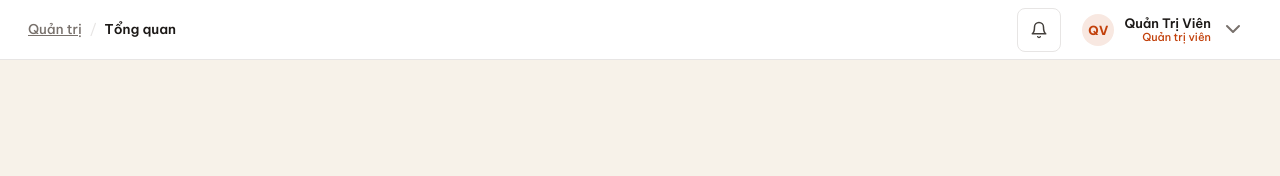
Test: Admin shell (GĐ2): header user menu dropdown › mở/đóng menu tài khoản và hiển thị chữ viết tắt tên người dùng
Expected: the text "QV" is shown, x1=1082 y1=14 x2=1114 y2=46
Click the button with aria-label "Mở menu tài khoản quản trị" at (1165, 30), box x1=1077 y1=8 x2=1252 y2=50
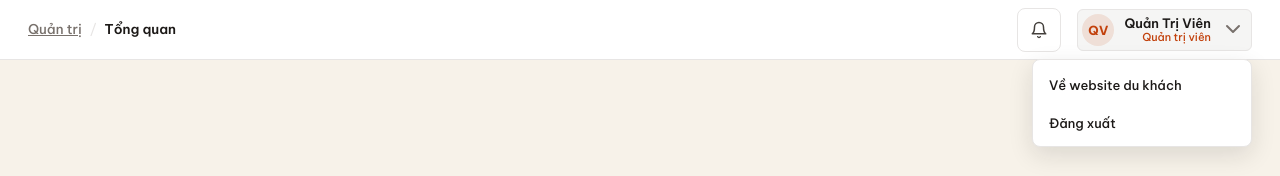
Result: the menu item "Về website du khách" is shown at x1=1049 y1=76 x2=1182 y2=92
Result: the menu item "Đăng xuất" is shown at x1=1039 y1=106 x2=1245 y2=140
